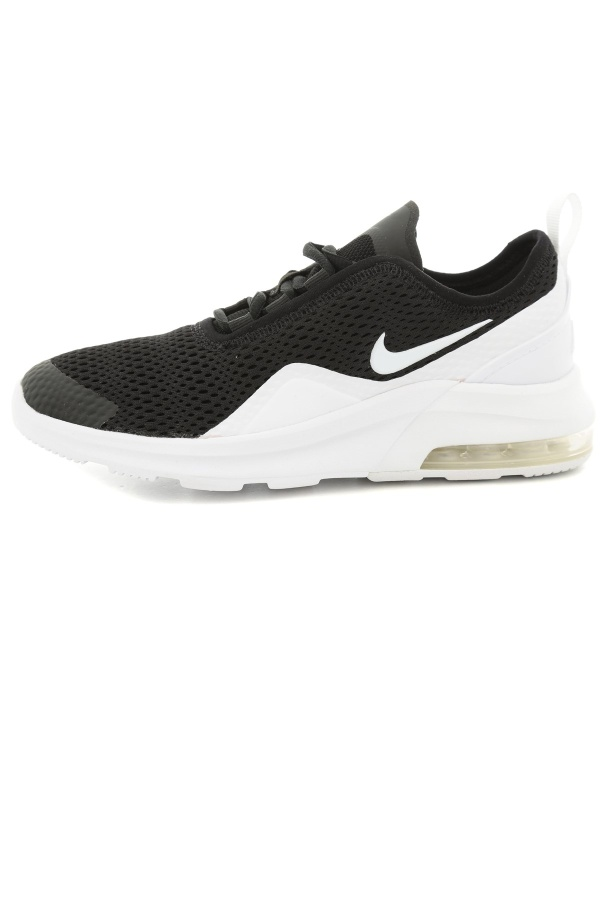nike: (359, 306, 501, 384)
